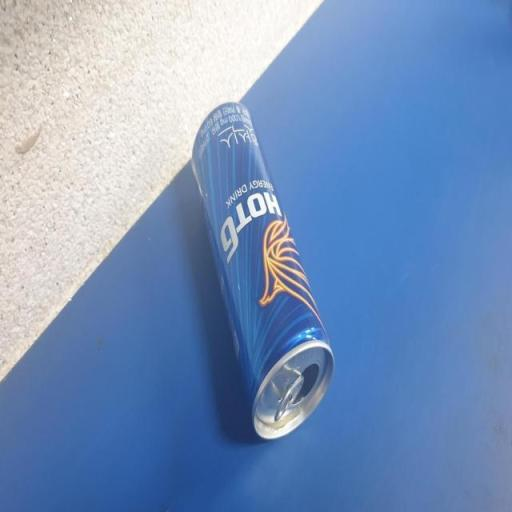metal: (182, 94, 334, 450)
